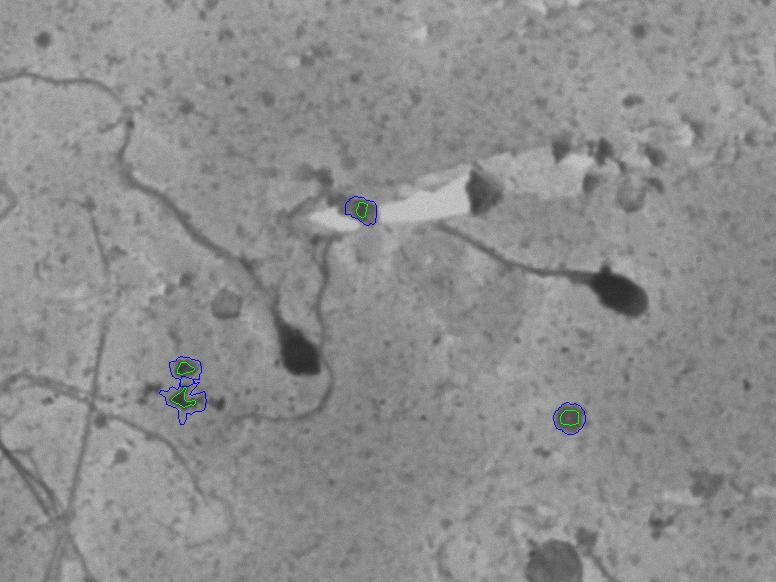Abnormal: (58, 61, 330, 397), (431, 220, 662, 394)
